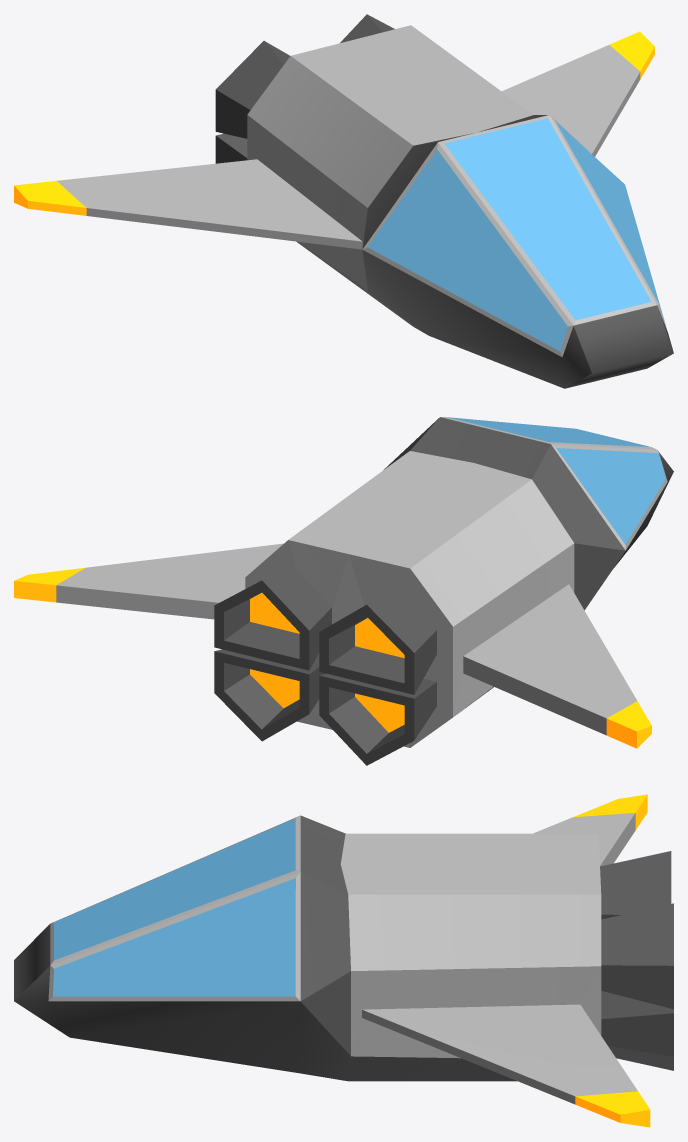
File: SpaceShip.fbx
The picture shows the model from 3 angles, top to bottom: view 1: azimuth 30°, elevation 25°; view 2: azimuth 150°, elevation 25°; view 3: azimuth 270°, elevation 25°; orthographic projection. The views are drawn at different scales.
Visible parts, largest first — view 1: Box002_Material #25_0, Box002_01 - Default_0, Box002_03 - Default_0, Box002_Material #26_0, Box002_08 - Default_0, Box002_02 - Default_0; view 2: Box002_Material #25_0, Box002_03 - Default_0, Box002_01 - Default_0, Box002_Material #26_0, Box002_02 - Default_0, Box002_08 - Default_0; view 3: Box002_Material #25_0, Box002_03 - Default_0, Box002_01 - Default_0, Box002_Material #26_0, Box002_08 - Default_0, Box002_02 - Default_0.
Boxes of the visible parts, box(x1,y1,x2,y2) form: Box002_Material #25_0: box(57, 25, 640, 290); Box002_01 - Default_0: box(368, 118, 664, 351); Box002_03 - Default_0: box(215, 14, 673, 388); Box002_Material #26_0: box(291, 40, 476, 145); Box002_08 - Default_0: box(362, 115, 667, 356); Box002_02 - Default_0: box(14, 31, 654, 215); Box002_Material #25_0: box(56, 451, 637, 747); Box002_03 - Default_0: box(214, 417, 673, 765); Box002_01 - Default_0: box(448, 417, 665, 544); Box002_Material #26_0: box(349, 463, 531, 568); Box002_02 - Default_0: box(14, 567, 651, 748); Box002_08 - Default_0: box(440, 417, 667, 550); Box002_Material #25_0: box(340, 813, 637, 1104); Box002_03 - Default_0: box(14, 815, 673, 1081); Box002_01 - Default_0: box(53, 818, 295, 996); Box002_Material #26_0: box(340, 833, 599, 863); Box002_08 - Default_0: box(48, 815, 300, 1001); Box002_02 - Default_0: box(573, 794, 650, 1127).
Size of the model in its own units: 937 by 285 by 827.
